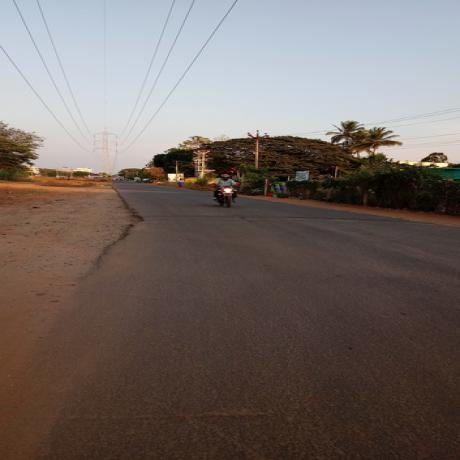Speed Bump: (133, 212, 418, 223)
